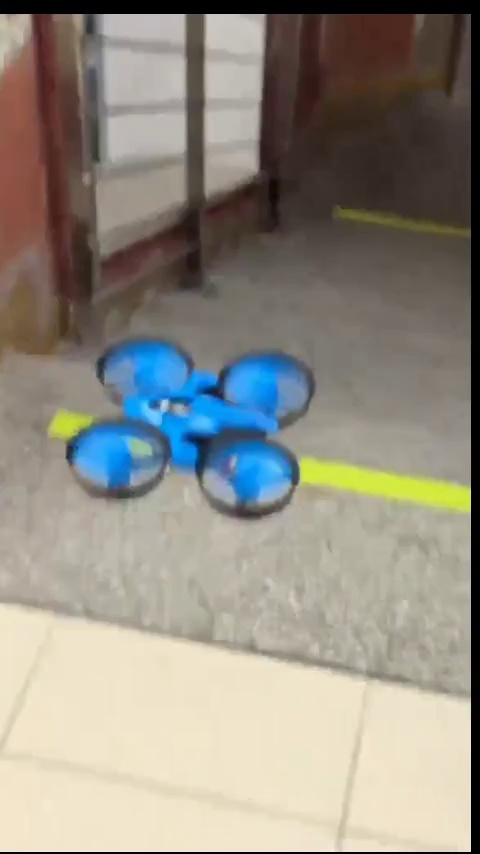drone: (74, 343, 315, 514)
